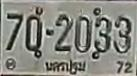0: (25, 14, 42, 52), (74, 15, 91, 52)
2: (54, 13, 72, 50)
3: (92, 16, 111, 53), (112, 15, 130, 53)
7: (5, 12, 22, 50)
NPT: (43, 58, 89, 76)
